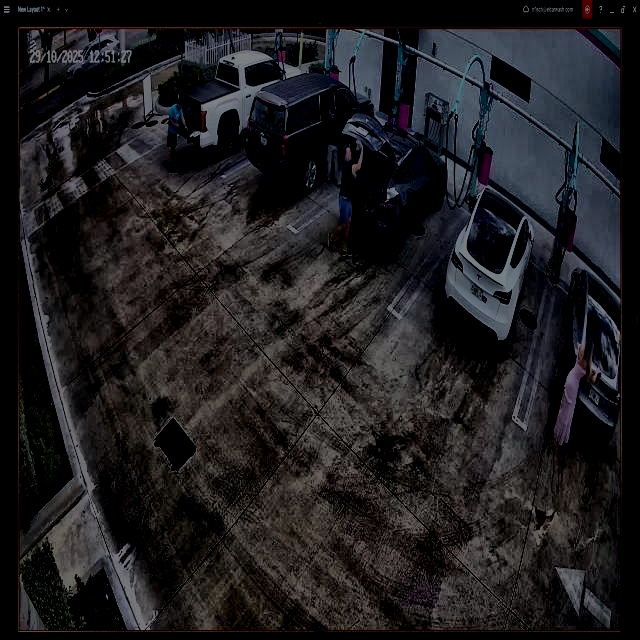Car: (444, 188, 536, 350), (246, 71, 374, 187), (342, 110, 447, 246), (176, 52, 304, 163)
